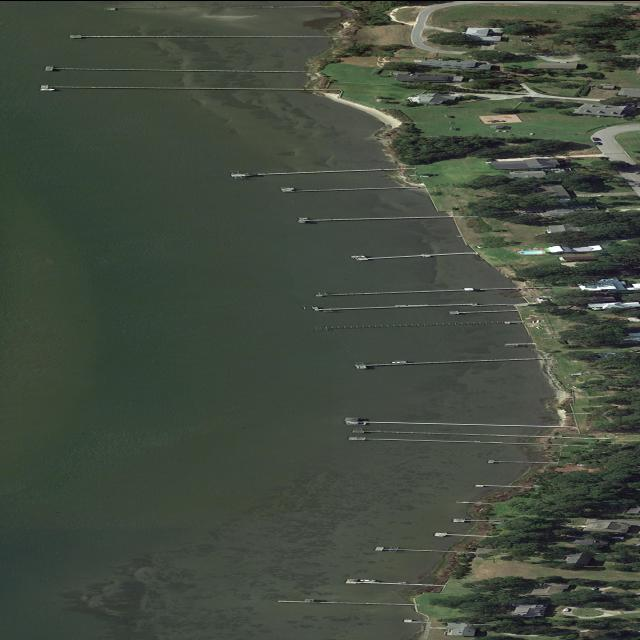ship: (359, 578, 376, 581), (349, 254, 365, 257), (39, 88, 56, 90), (586, 194, 603, 196), (390, 360, 406, 362), (280, 187, 295, 189), (344, 421, 358, 423), (297, 217, 309, 219), (433, 534, 444, 536), (395, 581, 407, 582), (419, 175, 429, 176)
small-vehicle: (591, 136, 600, 140), (590, 586, 598, 590), (593, 141, 601, 144)
